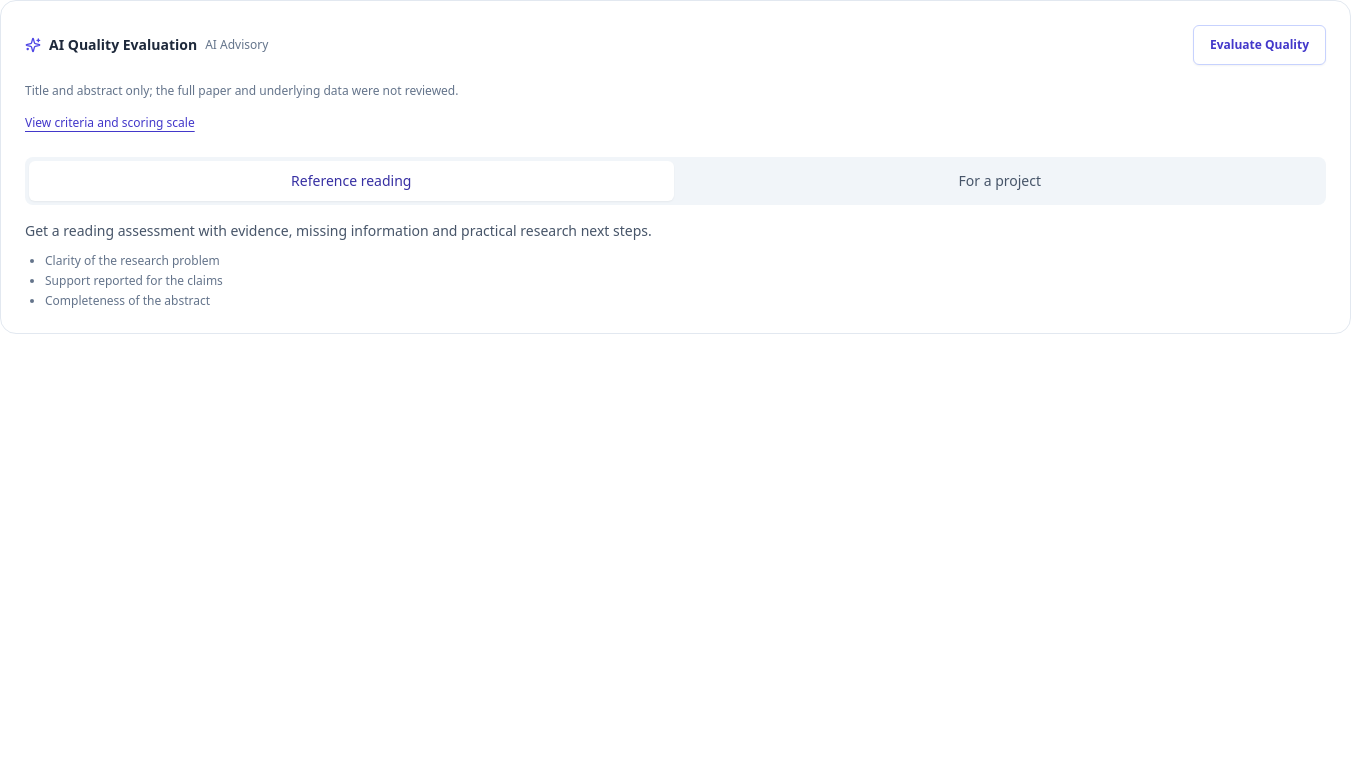
Test case: project mode › posts the project id, polls the job and renders the project verdict
Click the button "For a project": coordinates (1000, 180) [678, 160, 1322, 200]
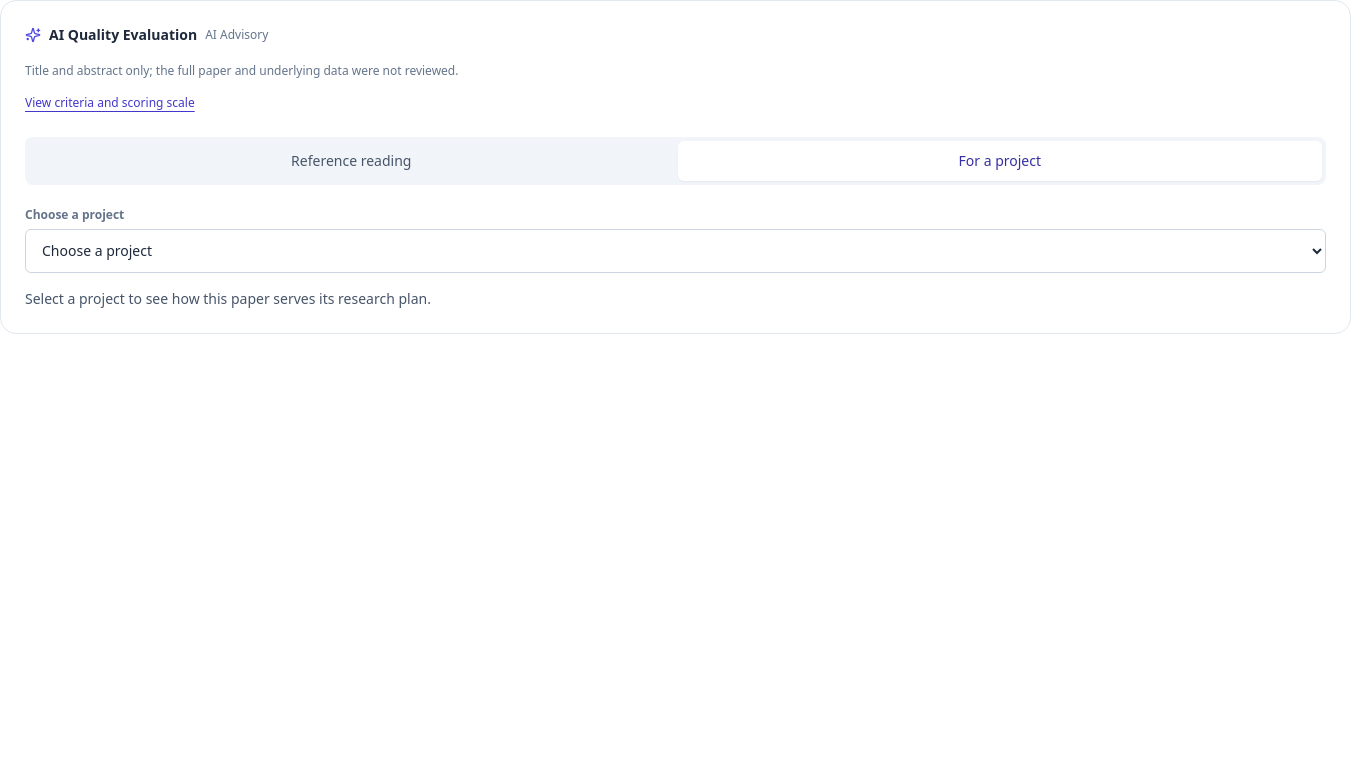
Select "Feedback in writing classes" in the dropdown labelled "Choose a project": coordinates (676, 250) [25, 228, 1326, 272]
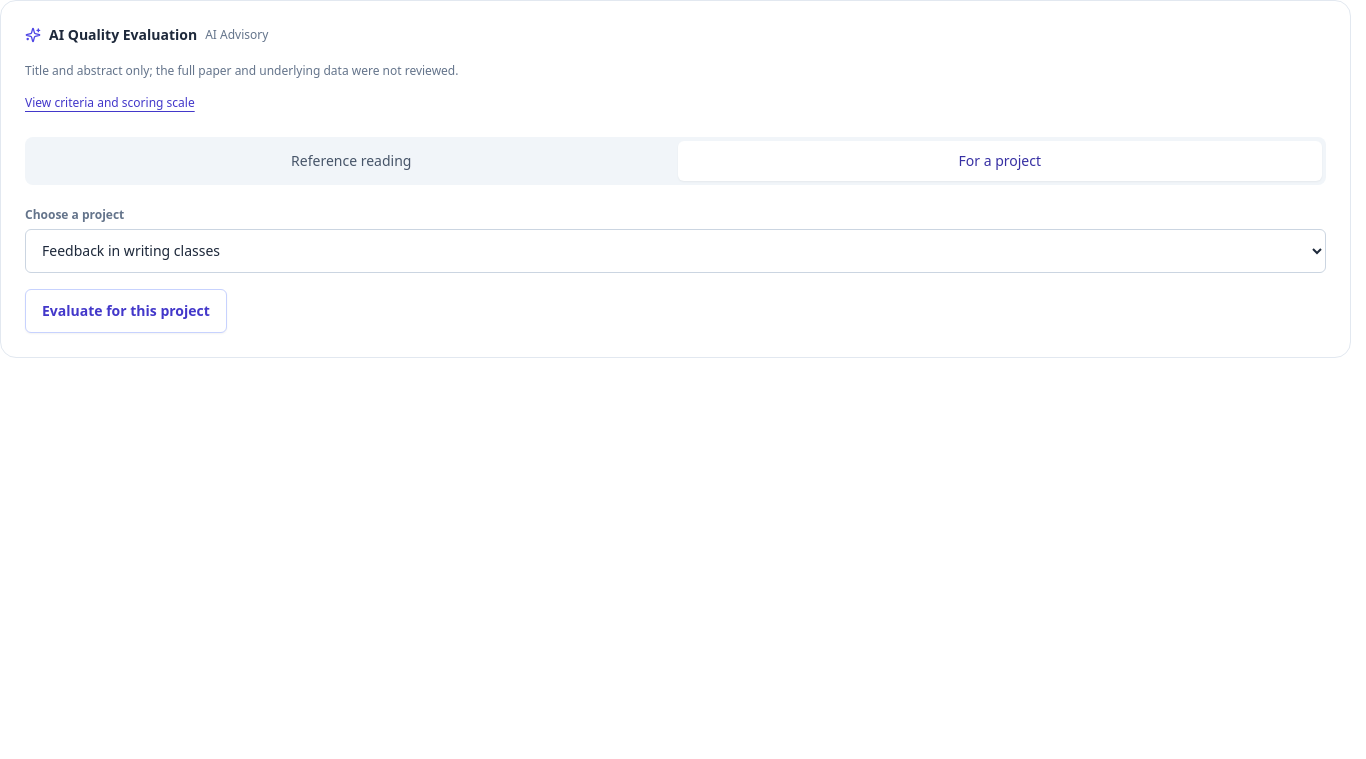
expect the button "Evaluate for this project" is shown: met
Click the button "Evaluate for this project": coordinates (126, 310) [25, 288, 227, 332]
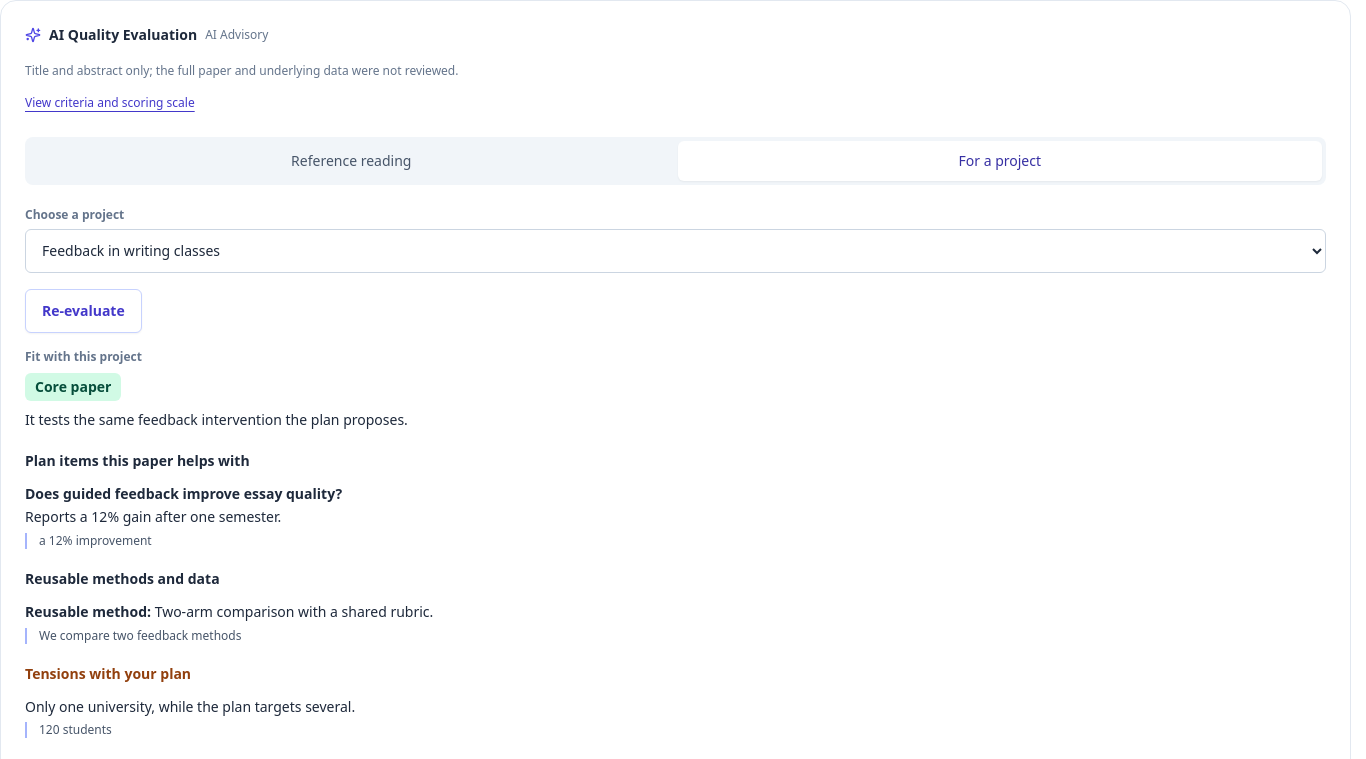
expect the text "Core paper" is shown: met, box [25, 372, 121, 400]
expect the text "It tests the same feedback intervention" is shown: met, box [25, 410, 408, 428]
expect the text "Does guided feedback improve essay quality?" is shown: met, box [25, 484, 342, 503]
